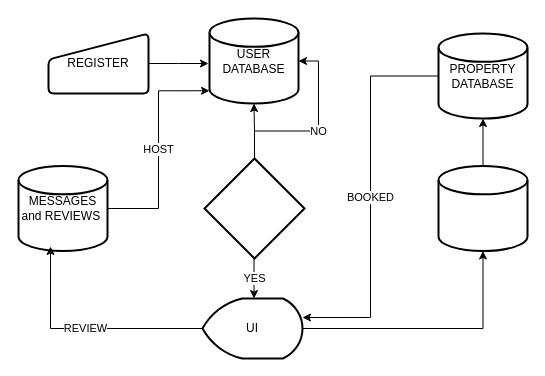
The diagram is 545 pixels wide and 376 high, and some of its shapes have lost their labels. Here are the shapes that lost their labels. From the top down, the centre of each, then its label:
pixel 254 208: LOGIN CREDENTIALS
pixel 482 208: BOOKING DATABASE
